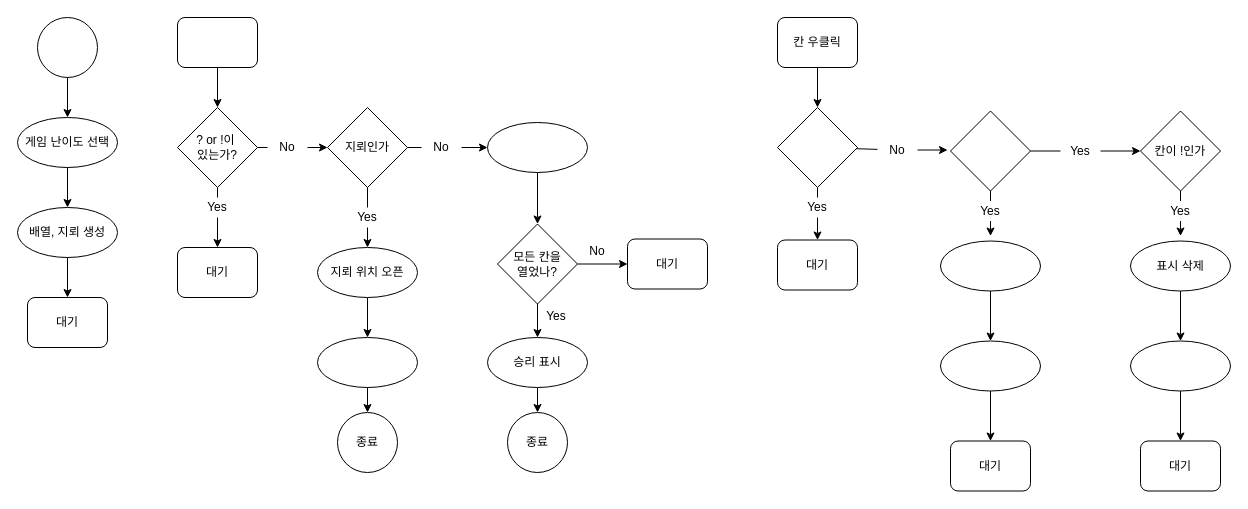
This 1248x509 diagram has some shape labels left out. Here are the shapes that lost their labels. From the top down, the centre of each, then its label:
At (x=67, y=47): "시작".
At (x=217, y=42): "칸 좌클릭".
At (x=537, y=147): "칸 정보 오픈".
At (x=817, y=147): "칸이 열린 상태인가".
At (x=990, y=150): "칸이 ?인가".
At (x=990, y=265): "!로 변경".
At (x=367, y=362): "패배 표시".
At (x=990, y=365): "칸 열고".
At (x=1180, y=365): "칸 닫고".
